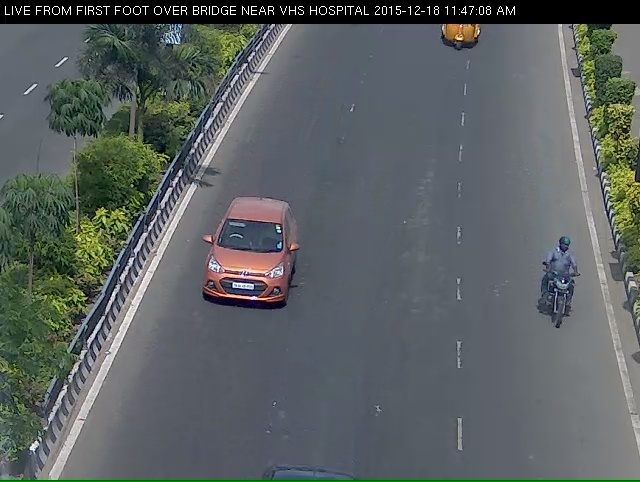Auto: (435, 28, 482, 60)
Car: (182, 208, 299, 346)
Person: (538, 250, 587, 346)
